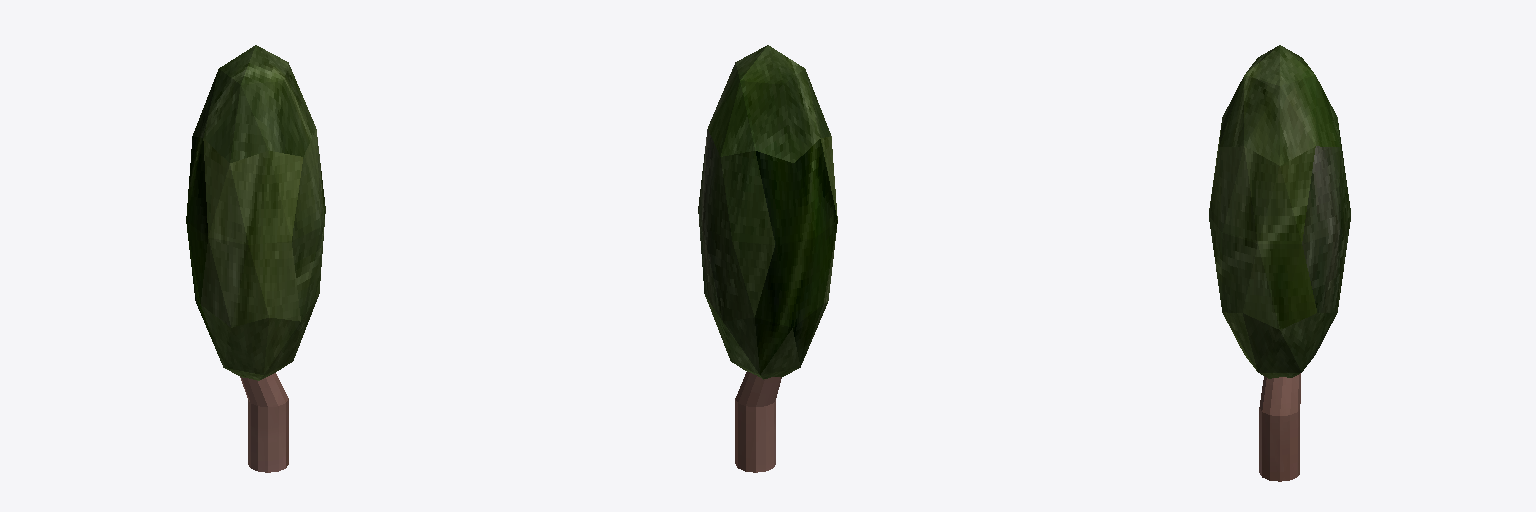
3 renders of one model, left to right at view 1: azimuth 30°, elevation 25°; view 2: azimuth 150°, elevation 25°; view 3: azimuth 270°, elevation 25°, orthographic.
Parts seen in each view (by area): view 1: Cylinder.007; view 2: Cylinder.007; view 3: Cylinder.007.
Part boxes in pixels (left/top/right/bottom): Cylinder.007: left=186, top=45, right=325, bottom=472; Cylinder.007: left=698, top=45, right=837, bottom=472; Cylinder.007: left=1209, top=45, right=1350, bottom=481.
Size of the model in its own units: 3.29 by 11.29 by 3.46.
1 materials, 1 textured.